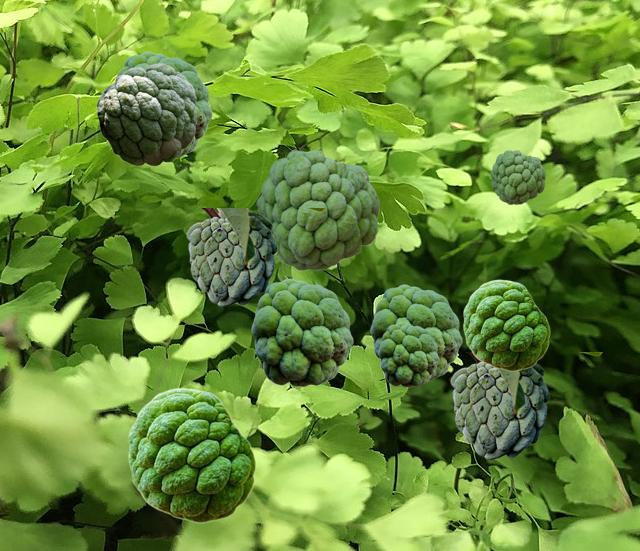atis: (128, 387, 255, 522), (450, 352, 601, 459), (256, 150, 378, 269), (186, 208, 324, 306), (251, 278, 352, 386), (116, 51, 211, 159), (96, 63, 196, 165), (370, 284, 461, 381), (463, 279, 549, 370), (378, 322, 438, 386), (490, 150, 544, 203)
